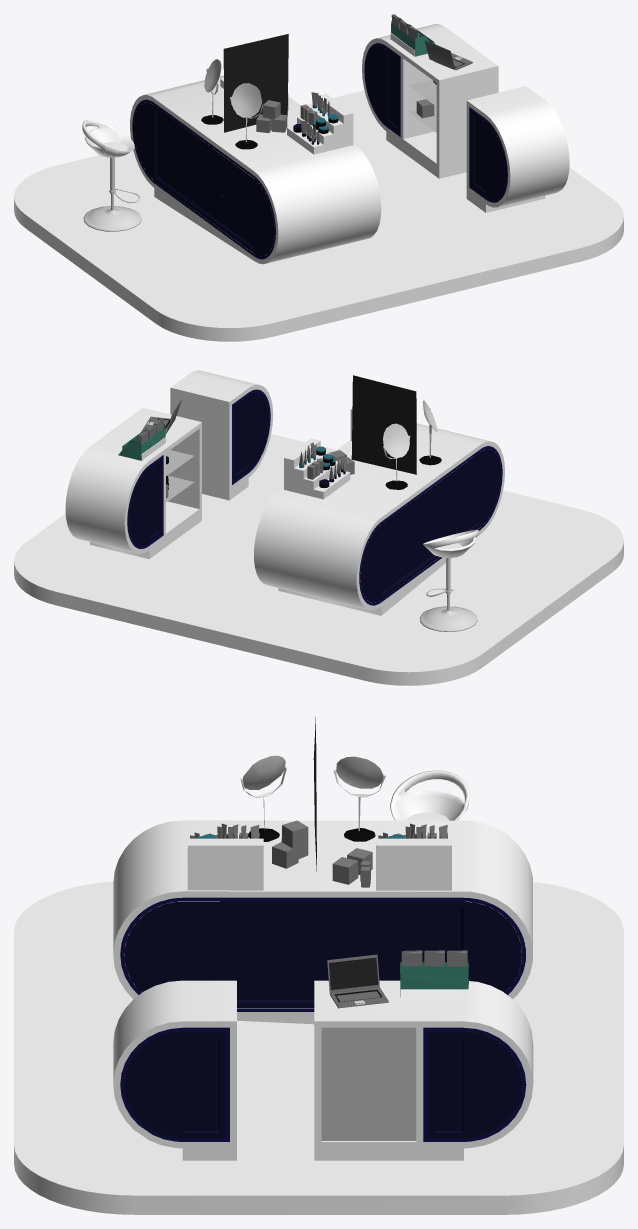
The picture shows the model from 3 angles, top to bottom: view 1: azimuth 30°, elevation 25°; view 2: azimuth 150°, elevation 25°; view 3: azimuth 270°, elevation 25°; orthographic projection. The views are drawn at different scales.
Parts seen in each view (by area): view 1: vm_v3_051_mall_island, Object001; view 2: vm_v3_051_mall_island, Object001; view 3: vm_v3_051_mall_island, Object001.
Part boxes in pixels (<box>): vm_v3_051_mall_island: <box>14,24,623,341</box>; Object001: <box>201,14,472,154</box>; vm_v3_051_mall_island: <box>14,370,623,685</box>; Object001: <box>118,375,441,502</box>; vm_v3_051_mall_island: <box>14,770,623,1214</box>; Object001: <box>187,717,468,1008</box>.
Size of the model in its own units: 533 by 218 by 436.
